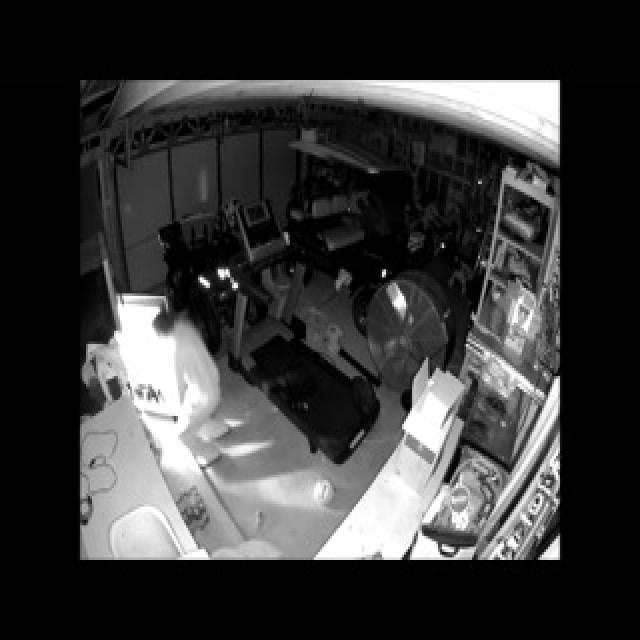thief: (123, 272, 237, 458)
